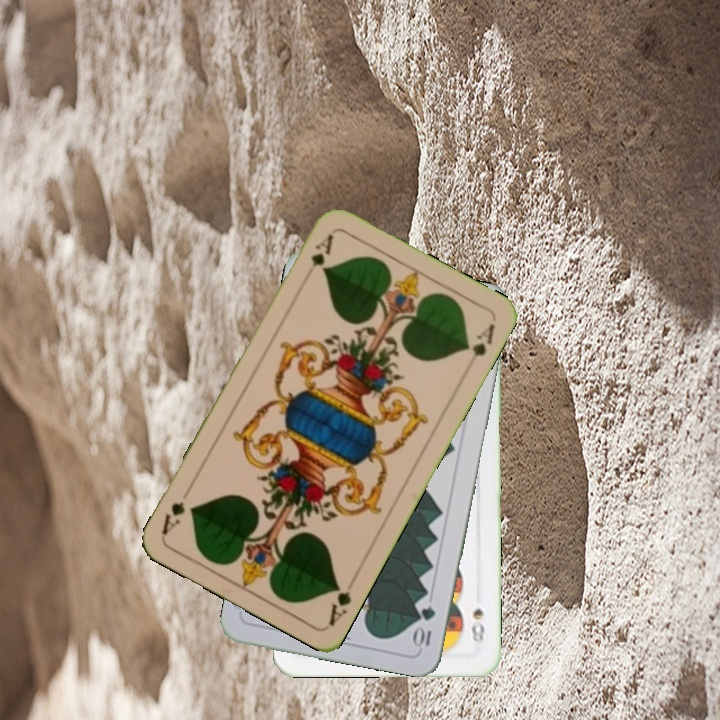G10: (411, 602, 438, 651)
GA: (325, 580, 354, 628), (307, 230, 336, 270)
S8: (467, 603, 487, 647)
